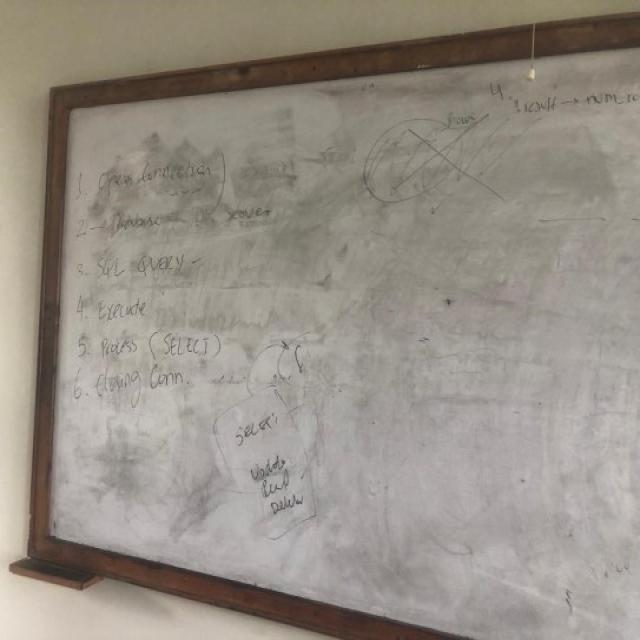White-board: (33, 19, 640, 640)
